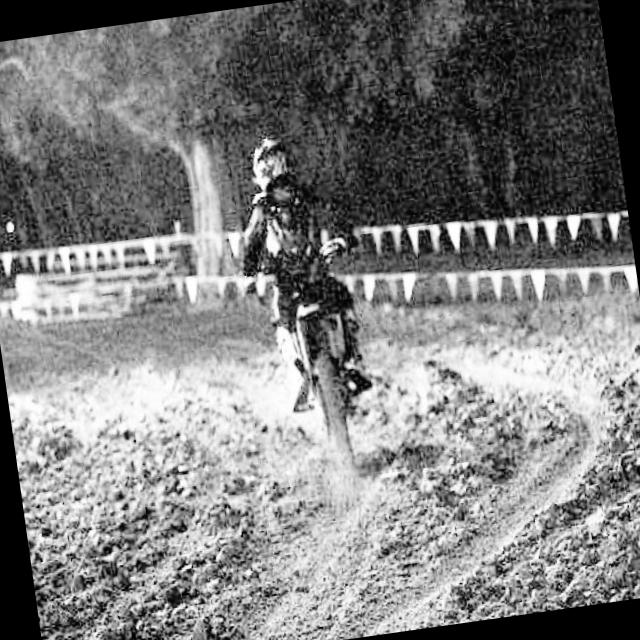Motorcycle: (228, 254, 402, 503)
Person: (208, 92, 354, 398)
